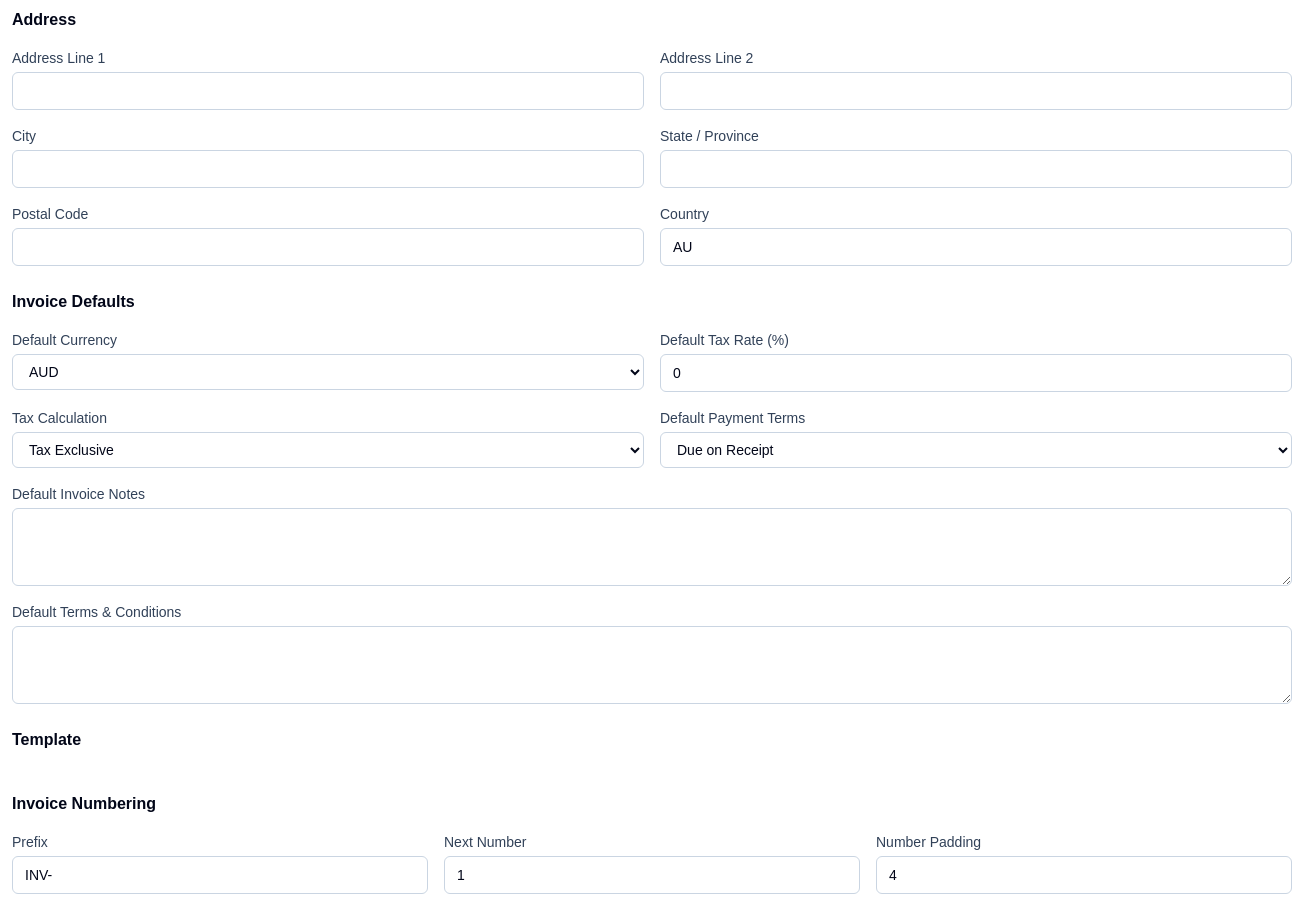
Test: BusinessProfileForm › only shows the custom payment-terms day field when Custom is selected
This screenshot has width=1304, height=900.
(page scrolled)
Expected: the field labelled "Custom Terms (Days)" is not shown
Select "Custom" in the dropdown labelled "Default Payment Terms" at (976, 450), box [660, 432, 1292, 468]
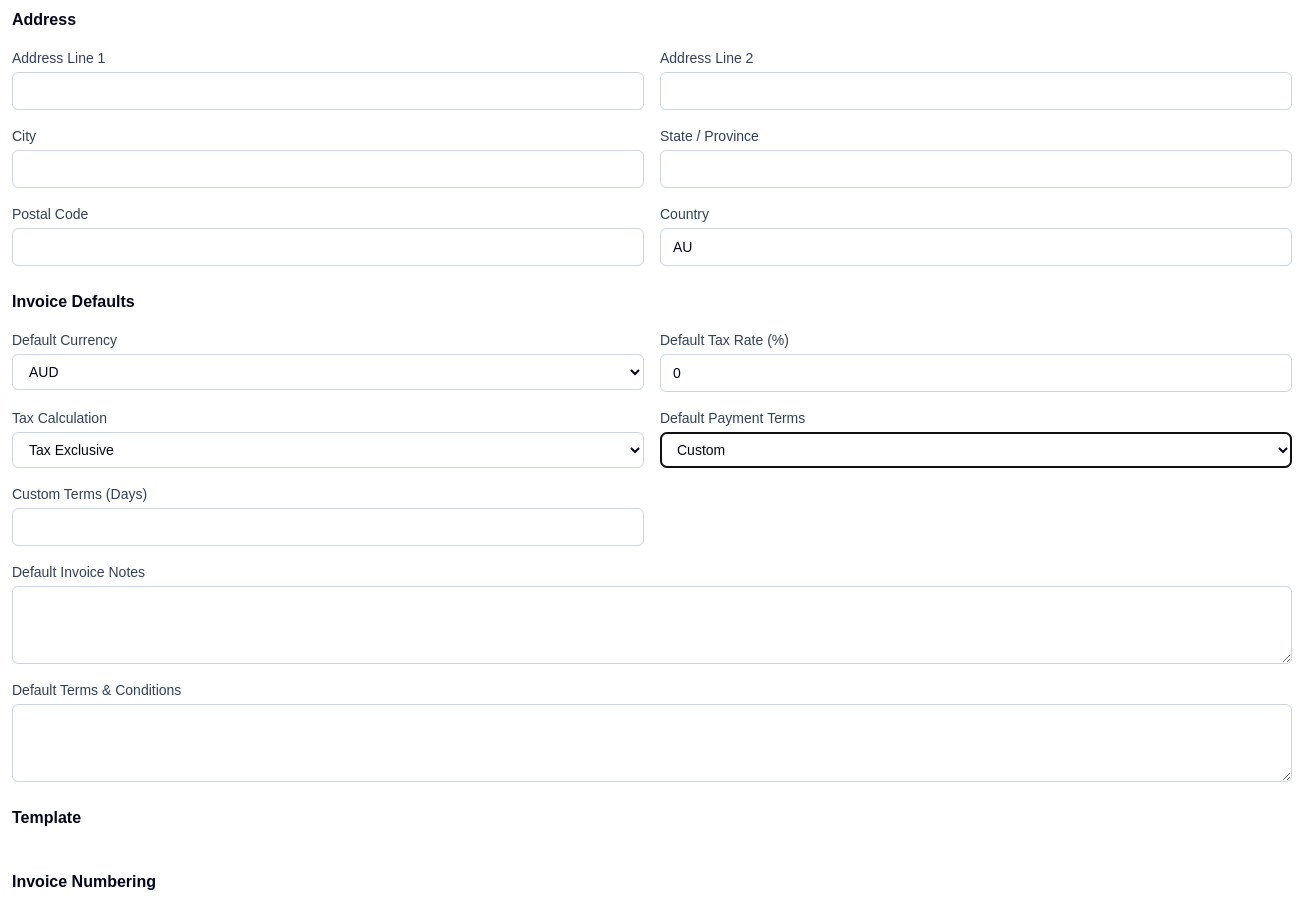
Expected: the number field labelled "Custom Terms (Days)" is shown, [12, 508, 644, 546]
